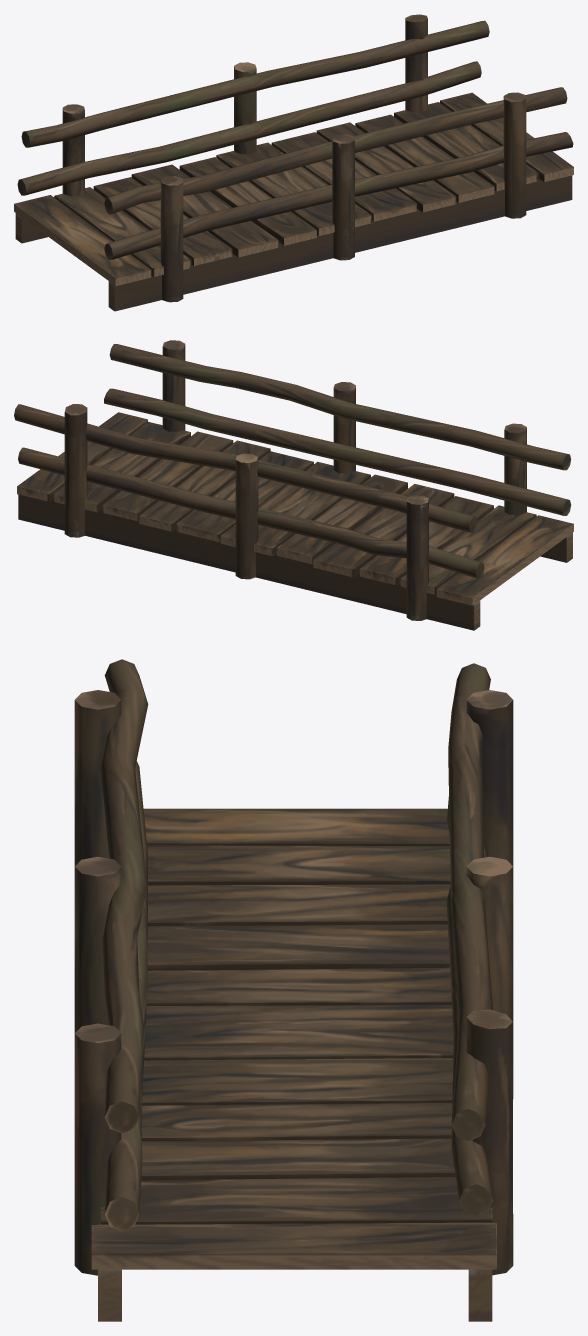
Rendered from sm_smallBridge.fbx.
3 views of the same model, one above another, from view 1: azimuth 30°, elevation 25°; view 2: azimuth 150°, elevation 25°; view 3: azimuth 270°, elevation 25° (orthographic). The views are drawn at different scales.
Parts seen in each view (by area): view 1: sm__w_B4; view 2: sm__w_B4; view 3: sm__w_B4.
Boxes of the visible parts, box(x1,y1,x2,y2) form: sm__w_B4: box(14, 14, 573, 311); sm__w_B4: box(14, 340, 573, 630); sm__w_B4: box(74, 659, 513, 1321).
Bounding box in the file's own units: 548 × 141 × 225.
